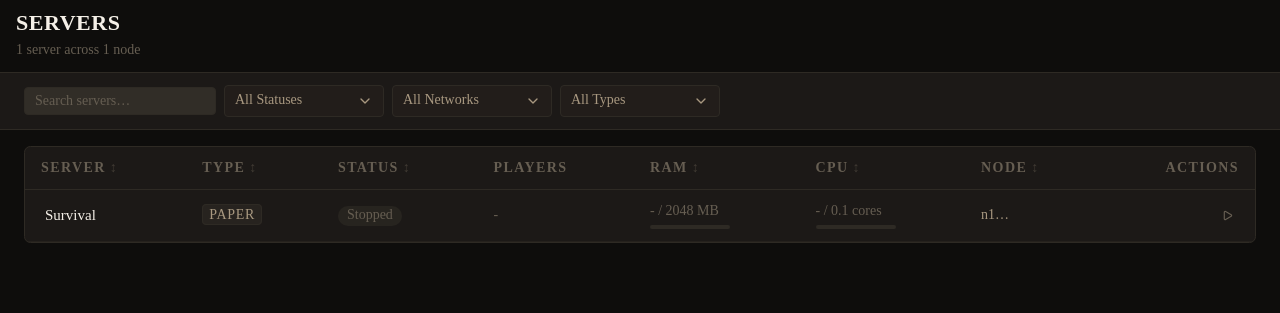
Scenario: ServersPage › Action error banner › error from startServer shows error banner, dismissable with X
Expected: the text "Survival" is shown, [45,207,96,223]
Click the button titled "Start" at (1228, 216), box [1216,204,1239,227]
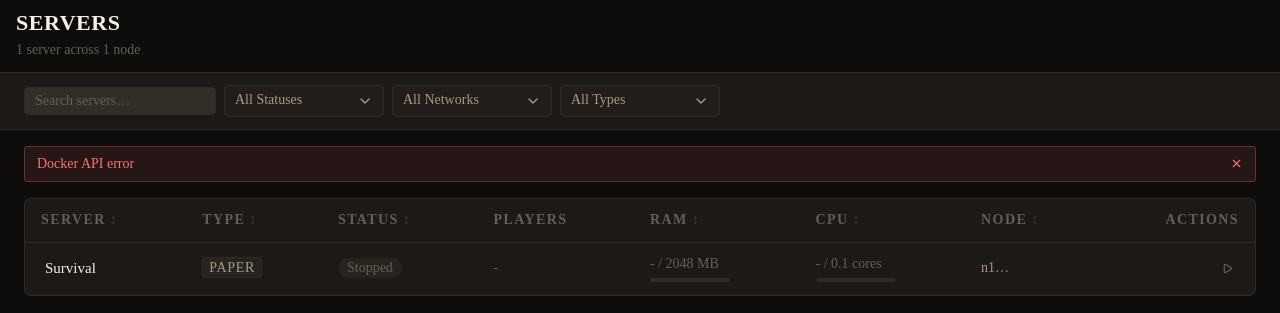
Now the text "Docker API error" is shown, box [37,155,134,173]
Click the button named "Dismiss" at (1236, 164), box [1230,158,1243,170]
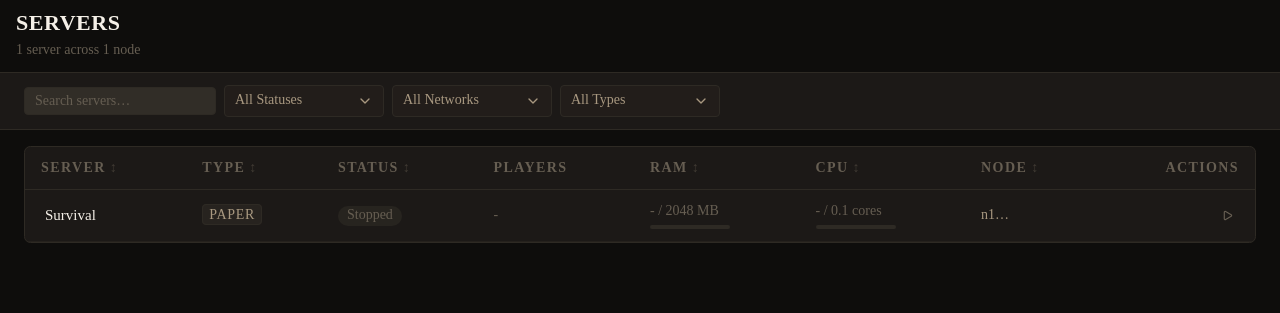
Now the text "Docker API error" is gone
